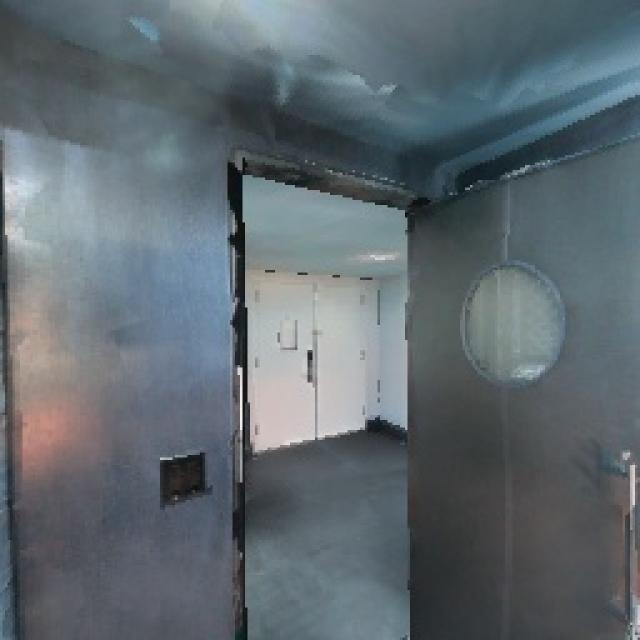door: (387, 157, 640, 637)
door-frame: (222, 150, 442, 640)
